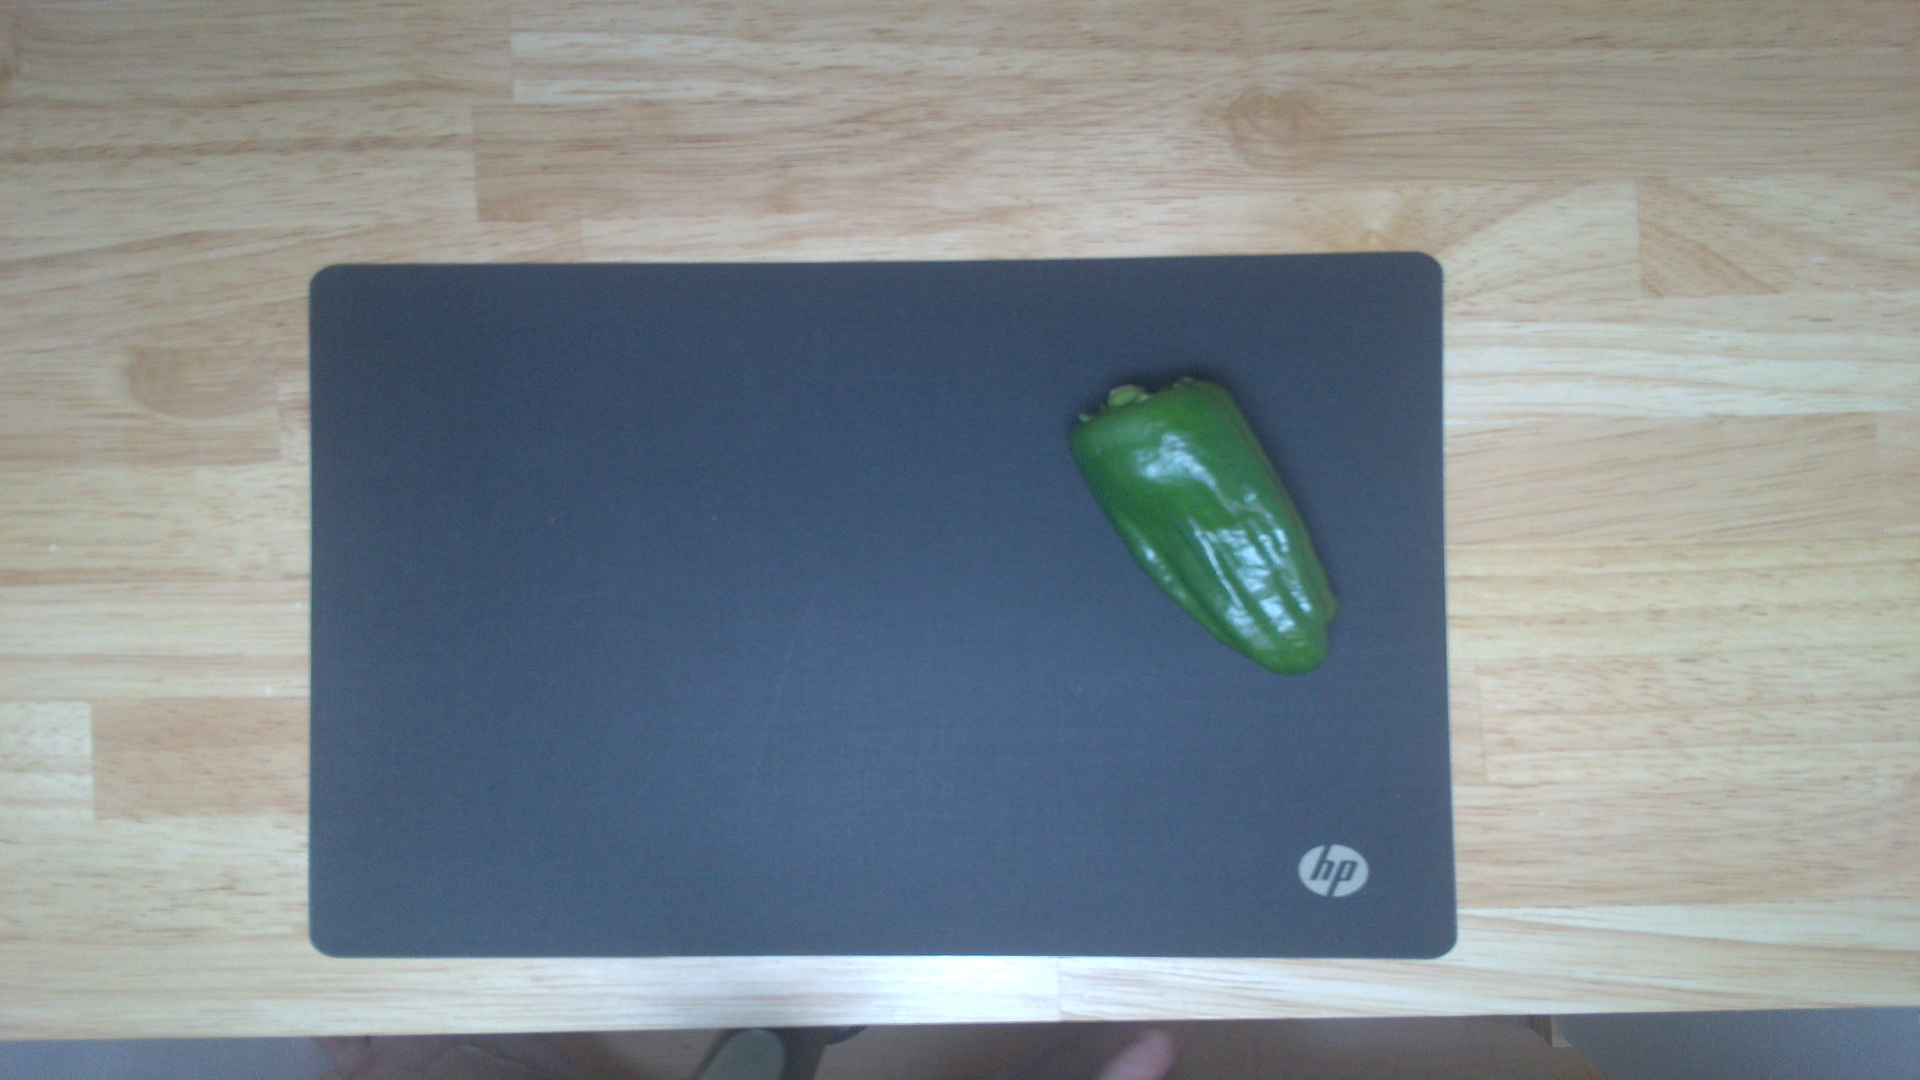Piman: (1067, 372, 1345, 676)
